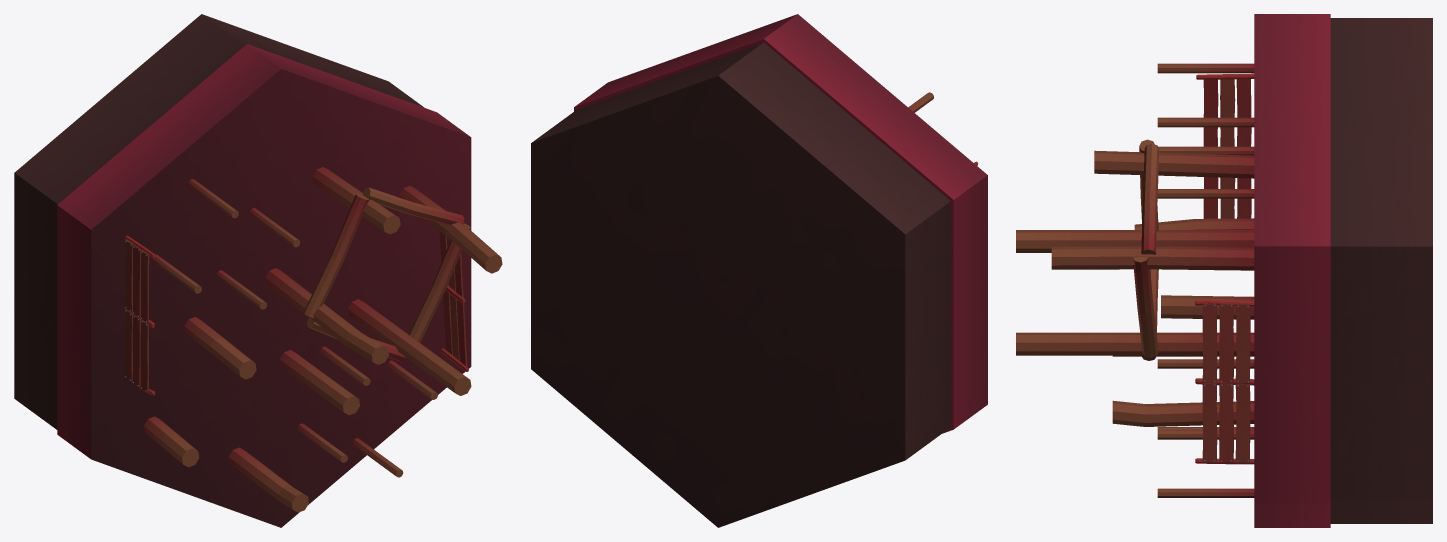
Rendered from DORF_G_DEAD.fbx.
3 renders of one model, left to right at view 1: azimuth 30°, elevation 25°; view 2: azimuth 150°, elevation 25°; view 3: azimuth 270°, elevation 25°, orthographic. The views are drawn at different scales.
Parts seen in each view (by area): view 1: DORF_G_DEAD; view 2: DORF_G_DEAD; view 3: DORF_G_DEAD.
Part boxes in pixels (left/top/right/bottom): DORF_G_DEAD: left=14, top=14, right=502, bottom=527; DORF_G_DEAD: left=531, top=14, right=987, bottom=527; DORF_G_DEAD: left=1016, top=14, right=1432, bottom=527.
Bounding box in the file's own units: 172 × 199 × 146.
